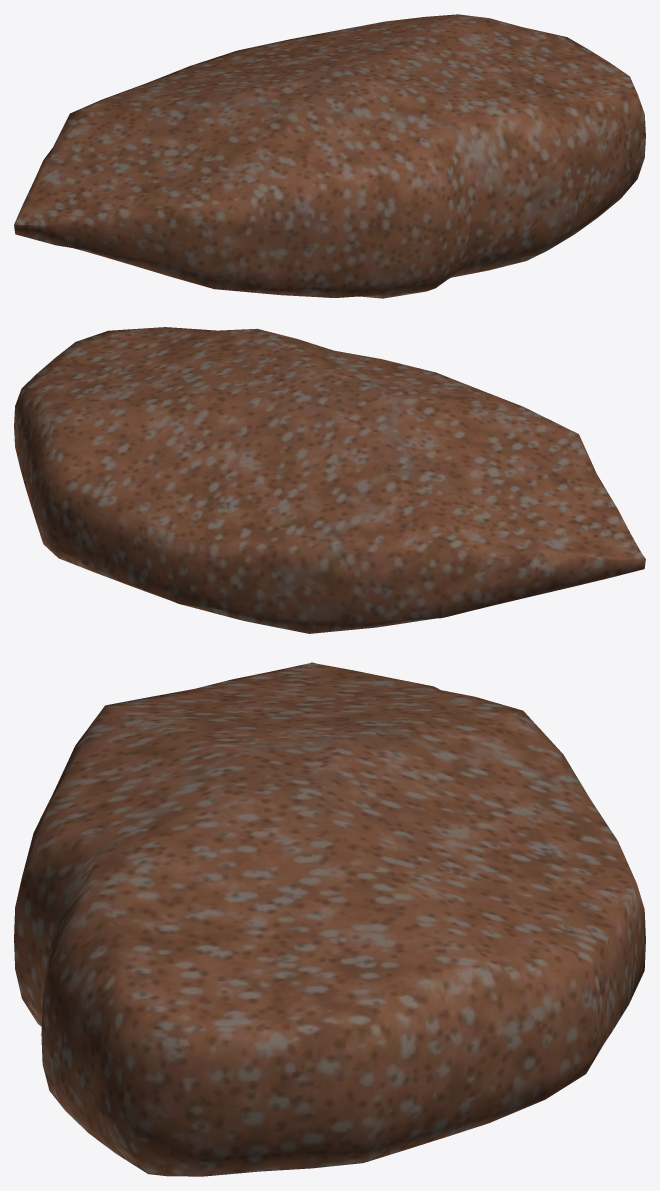
Rendered from jagged_gravel_06.glb.
The picture shows the model from 3 angles, top to bottom: view 1: azimuth 30°, elevation 25°; view 2: azimuth 150°, elevation 25°; view 3: azimuth 270°, elevation 25°; orthographic projection. The views are drawn at different scales.
Visible parts, largest first — view 1: jagged_gravel_06; view 2: jagged_gravel_06; view 3: jagged_gravel_06.
Part boxes in pixels (x1,y1,x2,y2): jagged_gravel_06: [14, 14, 645, 298]; jagged_gravel_06: [14, 327, 645, 633]; jagged_gravel_06: [14, 662, 645, 1176].
Bounding box in the file's own units: 0.076 × 0.0222 × 0.0472.
1 material, 1 textured.
